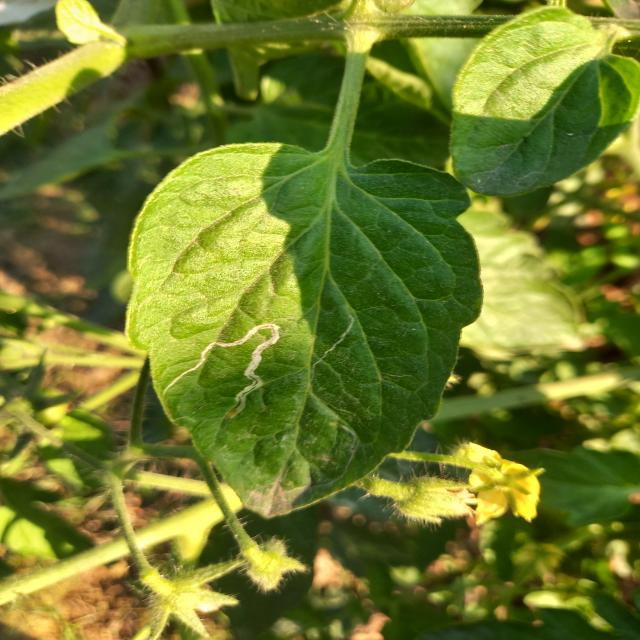Tuta absoluta: (164, 301, 303, 439)
